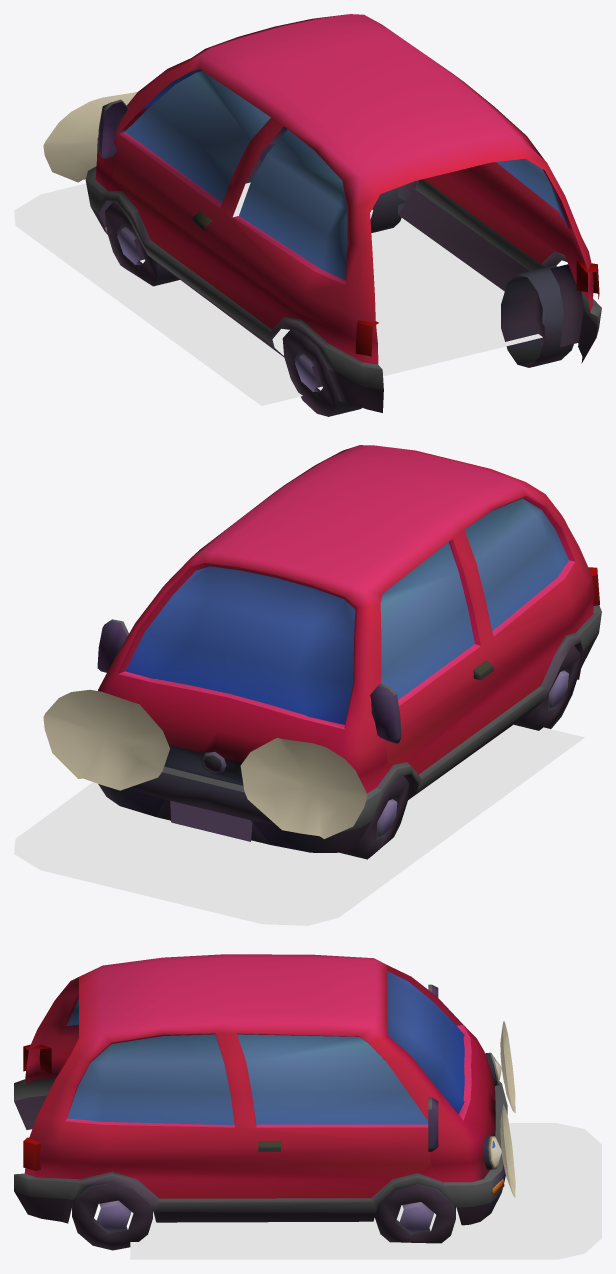
The model's file is City_Single2_Car02.fbx.
3 views of the same model, one above another, from view 1: azimuth 30°, elevation 25°; view 2: azimuth 150°, elevation 25°; view 3: azimuth 270°, elevation 25° (orthographic). The views are drawn at different scales.
Parts seen in each view (by area): view 1: city_single2_car02, car01Shadow, carLights; view 2: city_single2_car02, car01Shadow, carLights; view 3: city_single2_car02, car01Shadow, carLights.
Boxes of the visible parts, x1,y1,x2,y2 form: city_single2_car02: (85, 14, 601, 416); car01Shadow: (14, 182, 542, 405); carLights: (43, 91, 137, 182); city_single2_car02: (97, 445, 601, 859); car01Shadow: (14, 724, 584, 925); carLights: (43, 689, 367, 838); city_single2_car02: (14, 954, 507, 1250); car01Shadow: (130, 1123, 601, 1259); carLights: (488, 1021, 515, 1197).
Size of the model in its own units: 118 by 87.41 by 213.
